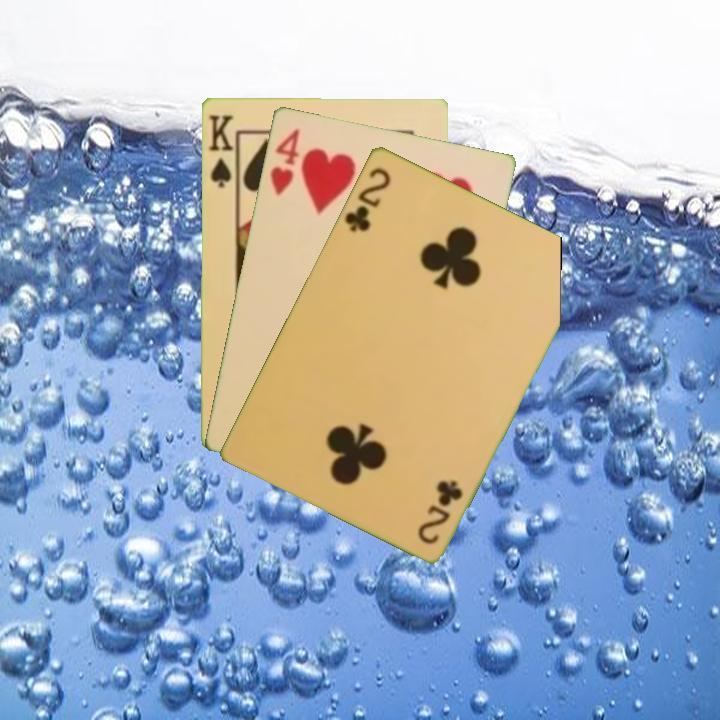2c: (340, 163, 394, 235), (413, 476, 466, 547)
4h: (266, 124, 302, 198)
Ks: (204, 111, 239, 191)
